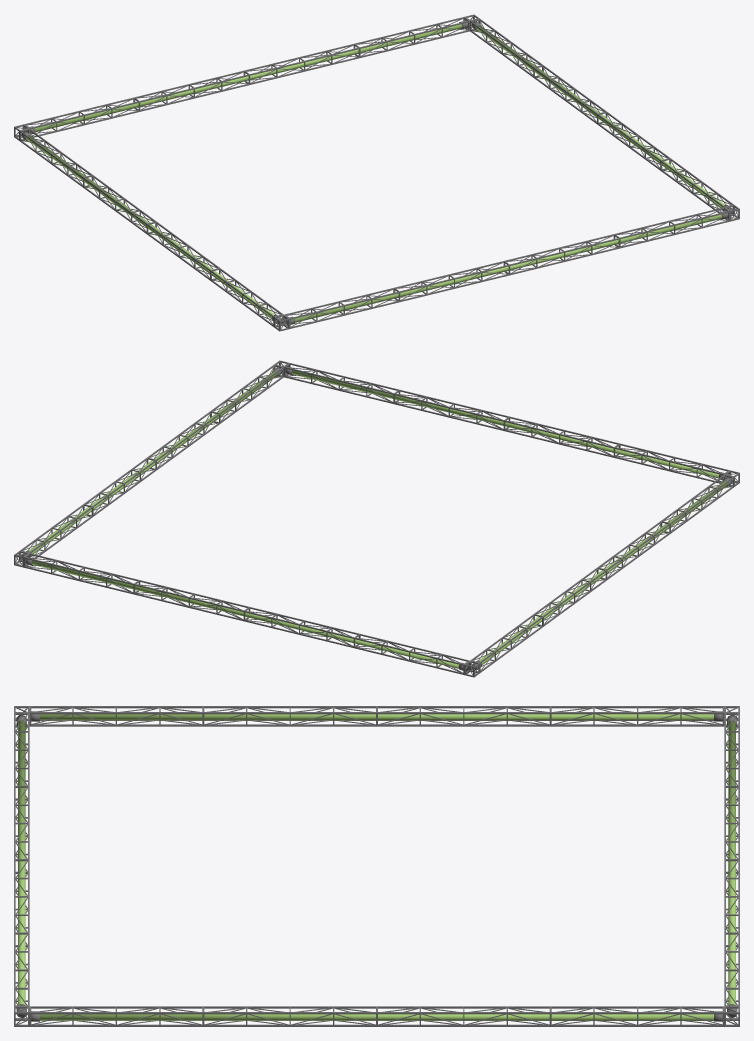
The model's file is Light_square.fbx.
3 renders of one model, top to bottom at view 1: azimuth 30°, elevation 25°; view 2: azimuth 150°, elevation 25°; view 3: azimuth 270°, elevation 25°, orthographic. The views are drawn at different scales.
Visible parts, largest first — view 1: Light_square; view 2: Light_square; view 3: Light_square.
Part boxes in pixels (bbox=[...]): Light_square: bbox=[14, 14, 739, 331]; Light_square: bbox=[14, 360, 739, 677]; Light_square: bbox=[14, 706, 739, 1026].
Bounding box in the file's own units: 1045 × 22.5 × 1045.
